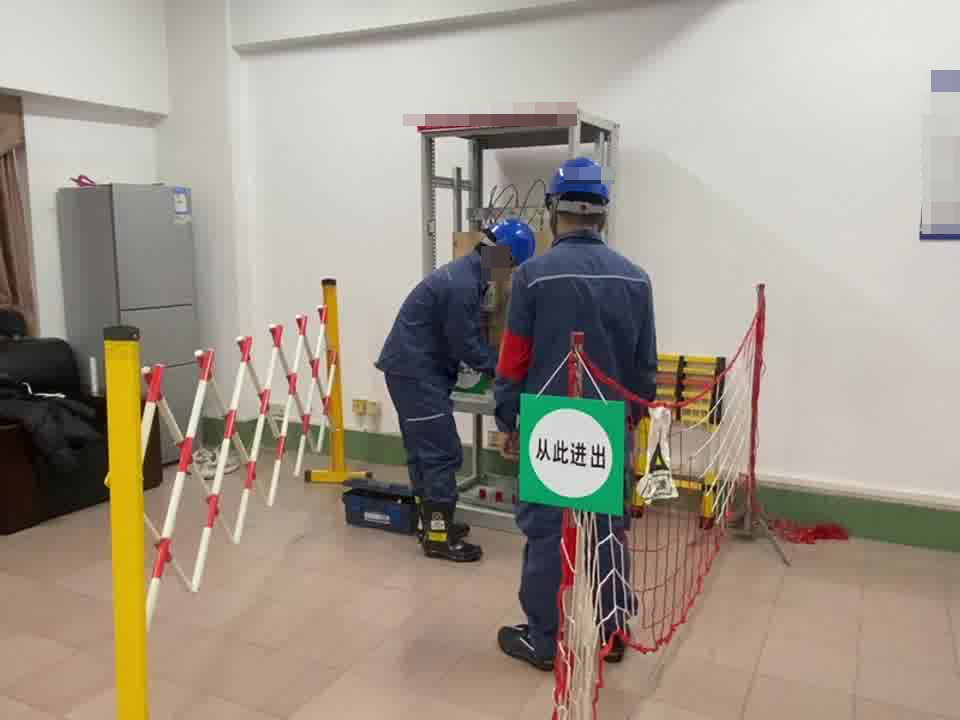badge: (496, 328, 534, 383)
downsuit: (516, 475, 637, 648), (385, 383, 463, 510)
halt: (543, 157, 614, 236), (489, 219, 537, 266)
hand: (492, 430, 518, 462)
inear: (490, 243, 512, 279)
intosign: (523, 397, 621, 509)
person: (494, 157, 666, 663), (377, 217, 534, 562)
shoe: (417, 502, 482, 559)
upsuit: (501, 233, 661, 396), (376, 253, 491, 381)
